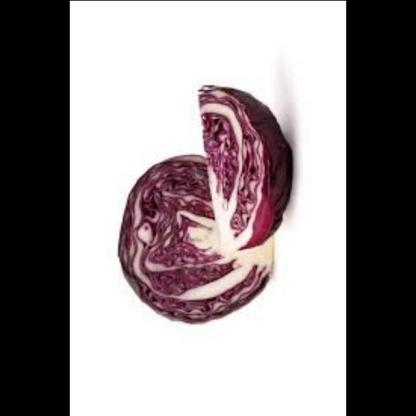cabbage: (105, 155, 285, 334), (191, 60, 306, 250)
